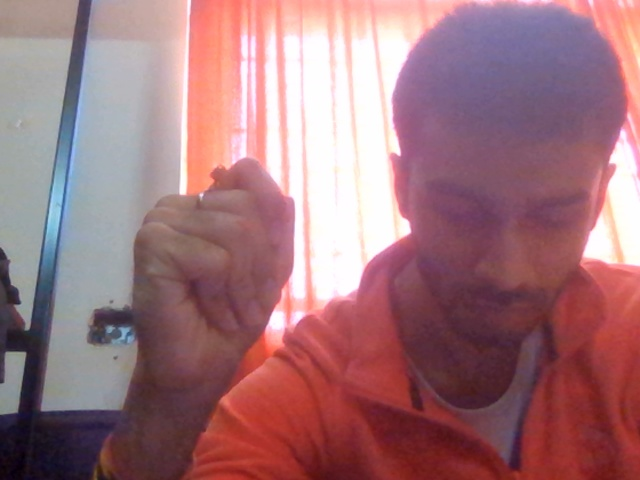T: (122, 156, 348, 462)
